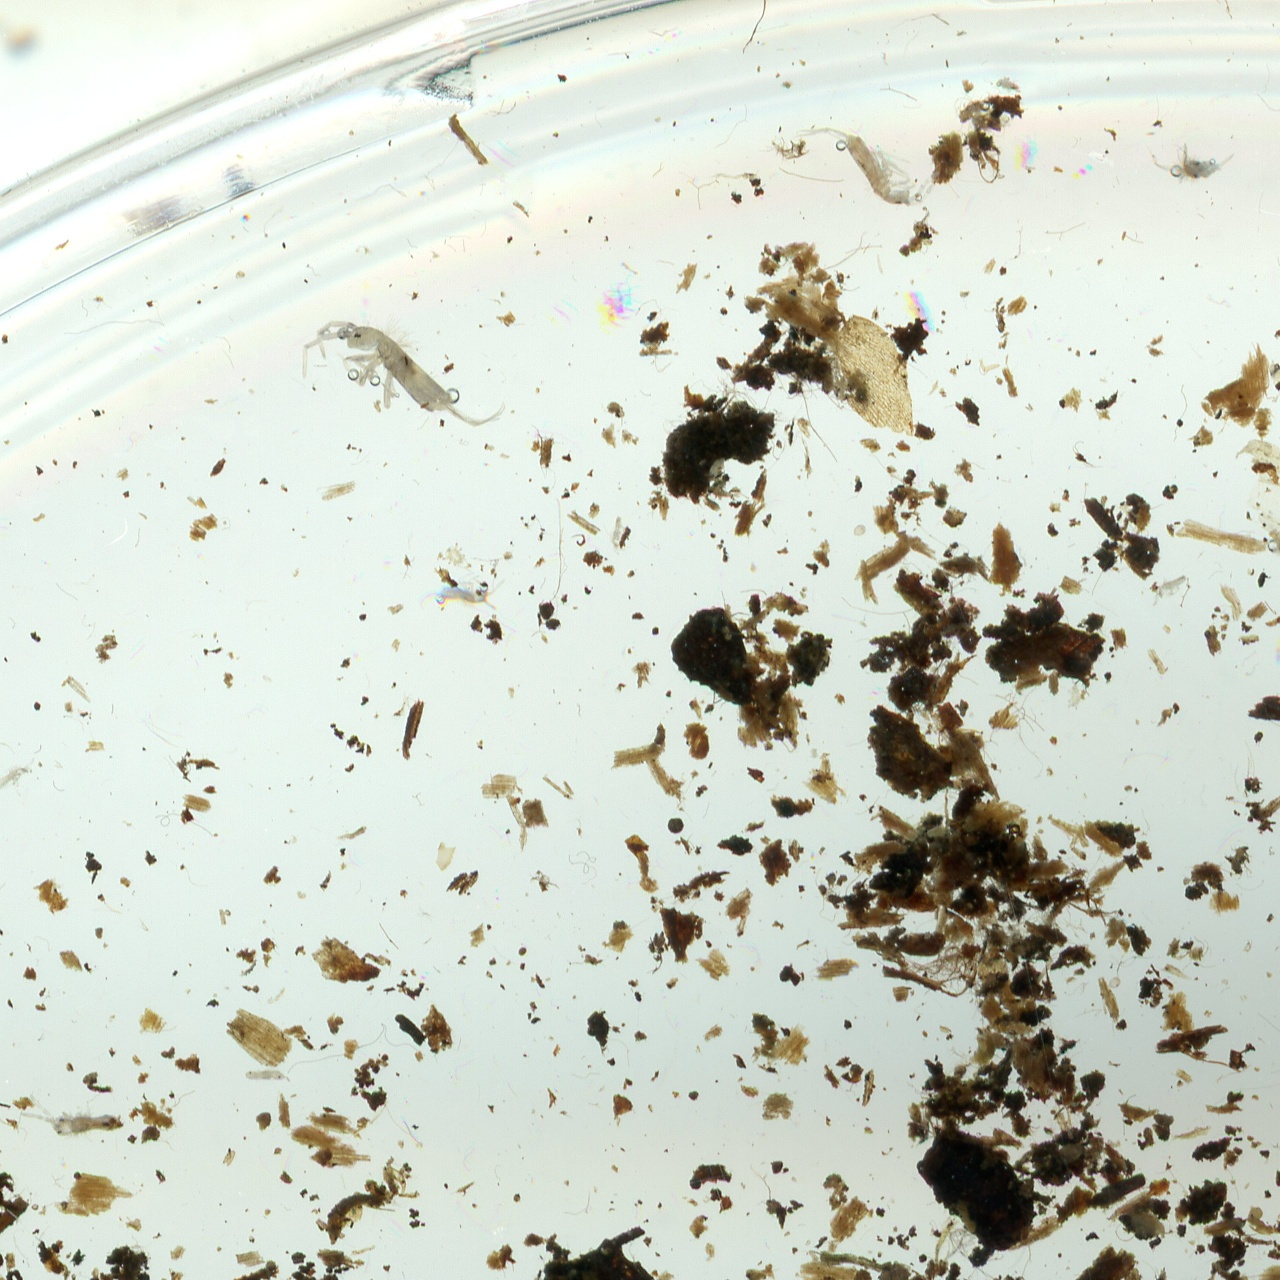arthropod: (281, 276, 520, 494), (792, 89, 932, 234), (1144, 140, 1238, 187), (416, 578, 509, 616), (0, 752, 49, 810), (17, 1110, 125, 1135), (1142, 566, 1194, 610), (439, 539, 473, 570), (245, 1066, 293, 1086), (610, 513, 628, 548)
